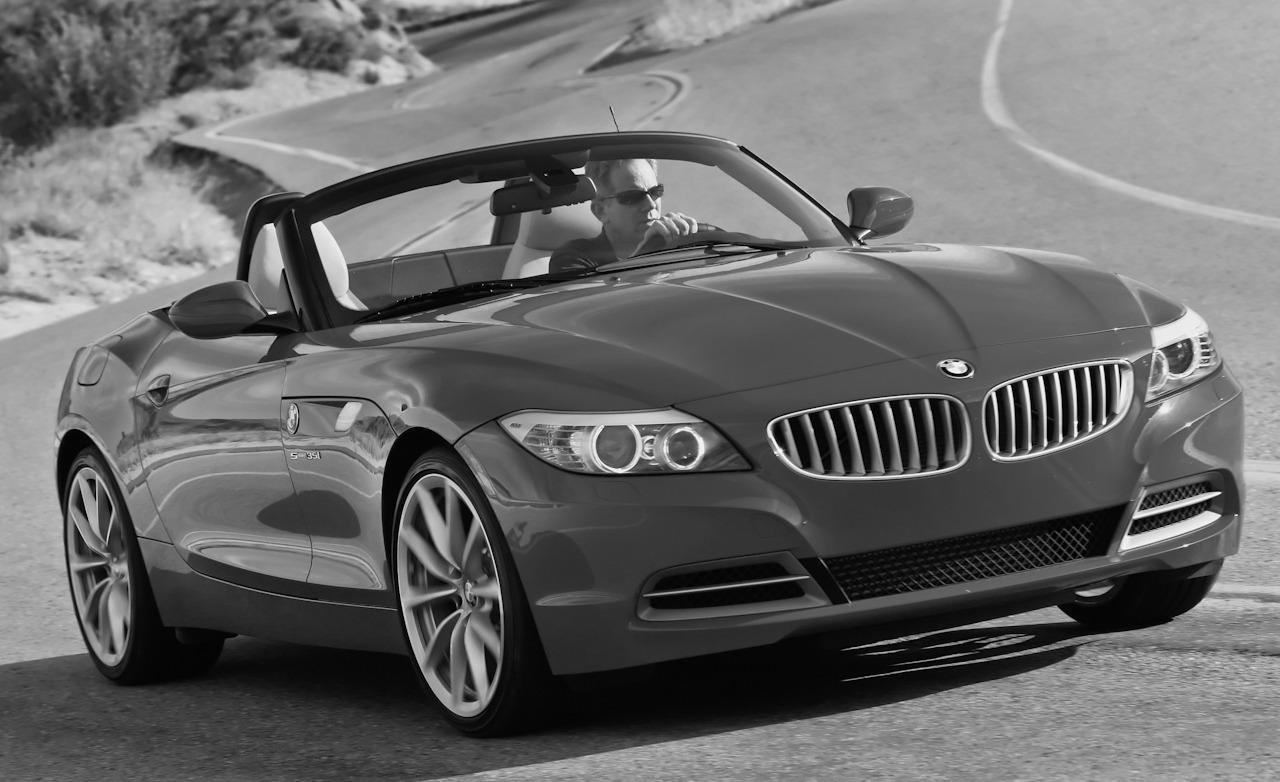car: (51, 135, 1247, 736)
